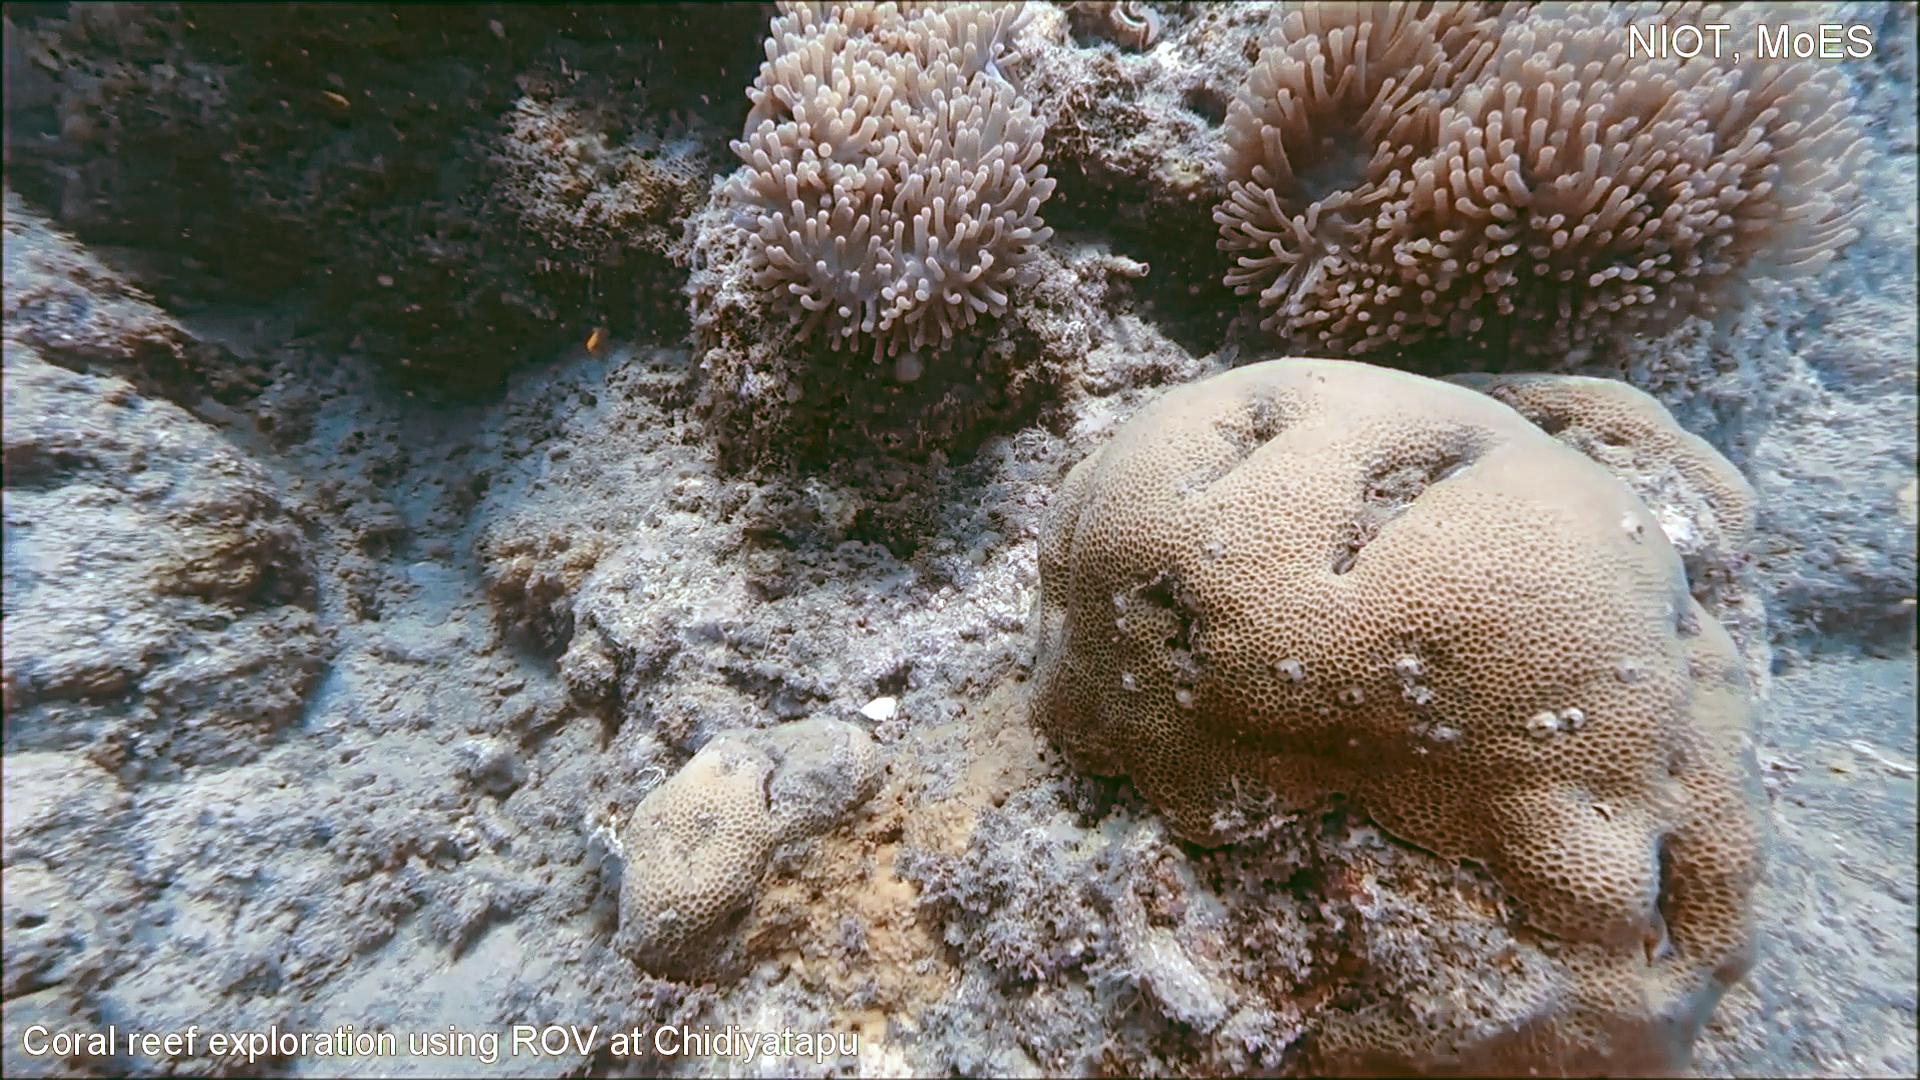Macrodactyla doreensis-Long tentacle Anemone: (1203, 0, 1891, 357), (698, 0, 1075, 371)
Tridacna Clam: (1072, 0, 1176, 59)
